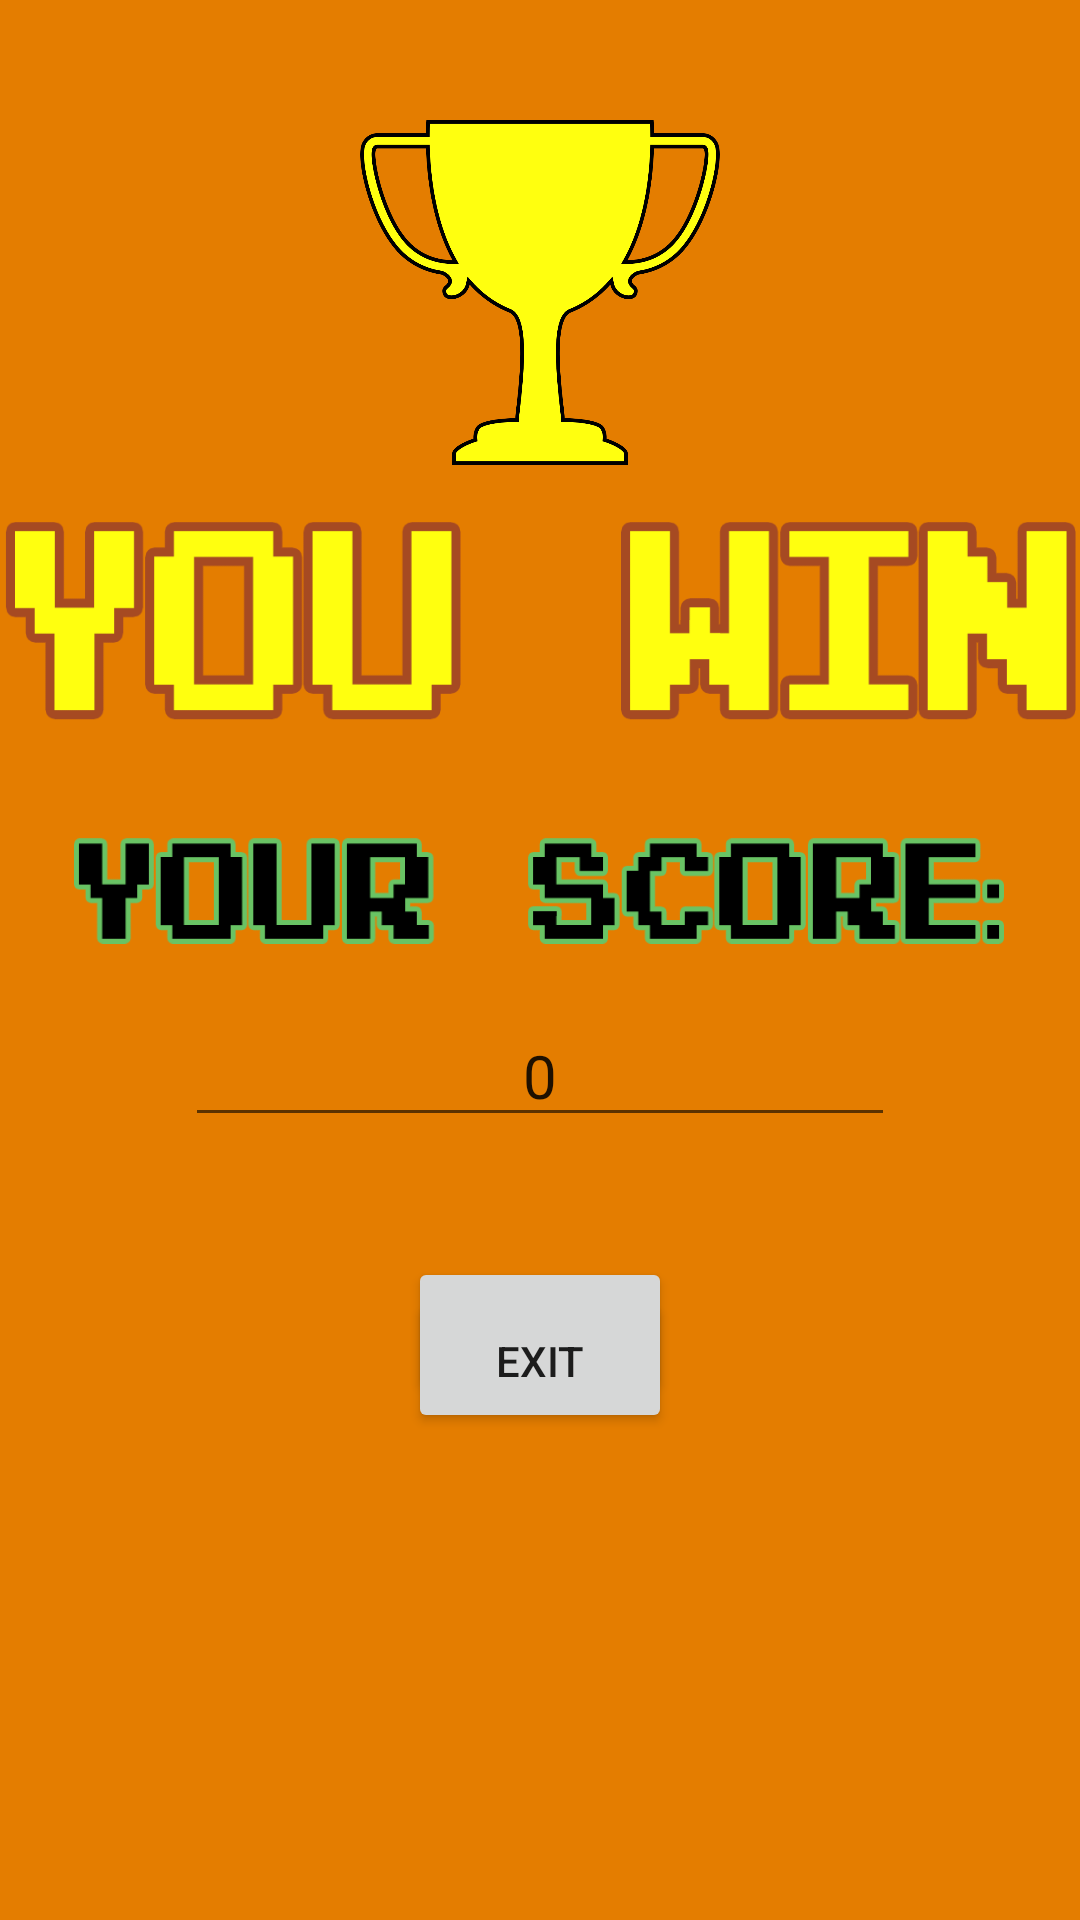

Icons on this 1080x1920 Android screen, each with its box as BBox(x1, y1, x2, y2):
champion: BBox(360, 120, 720, 465)
